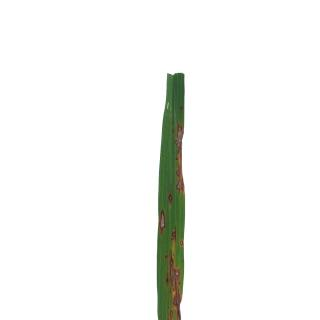Blast: (166, 248, 180, 320), (175, 146, 182, 192), (172, 230, 185, 247), (176, 120, 182, 146), (159, 208, 165, 233), (167, 193, 177, 205)
